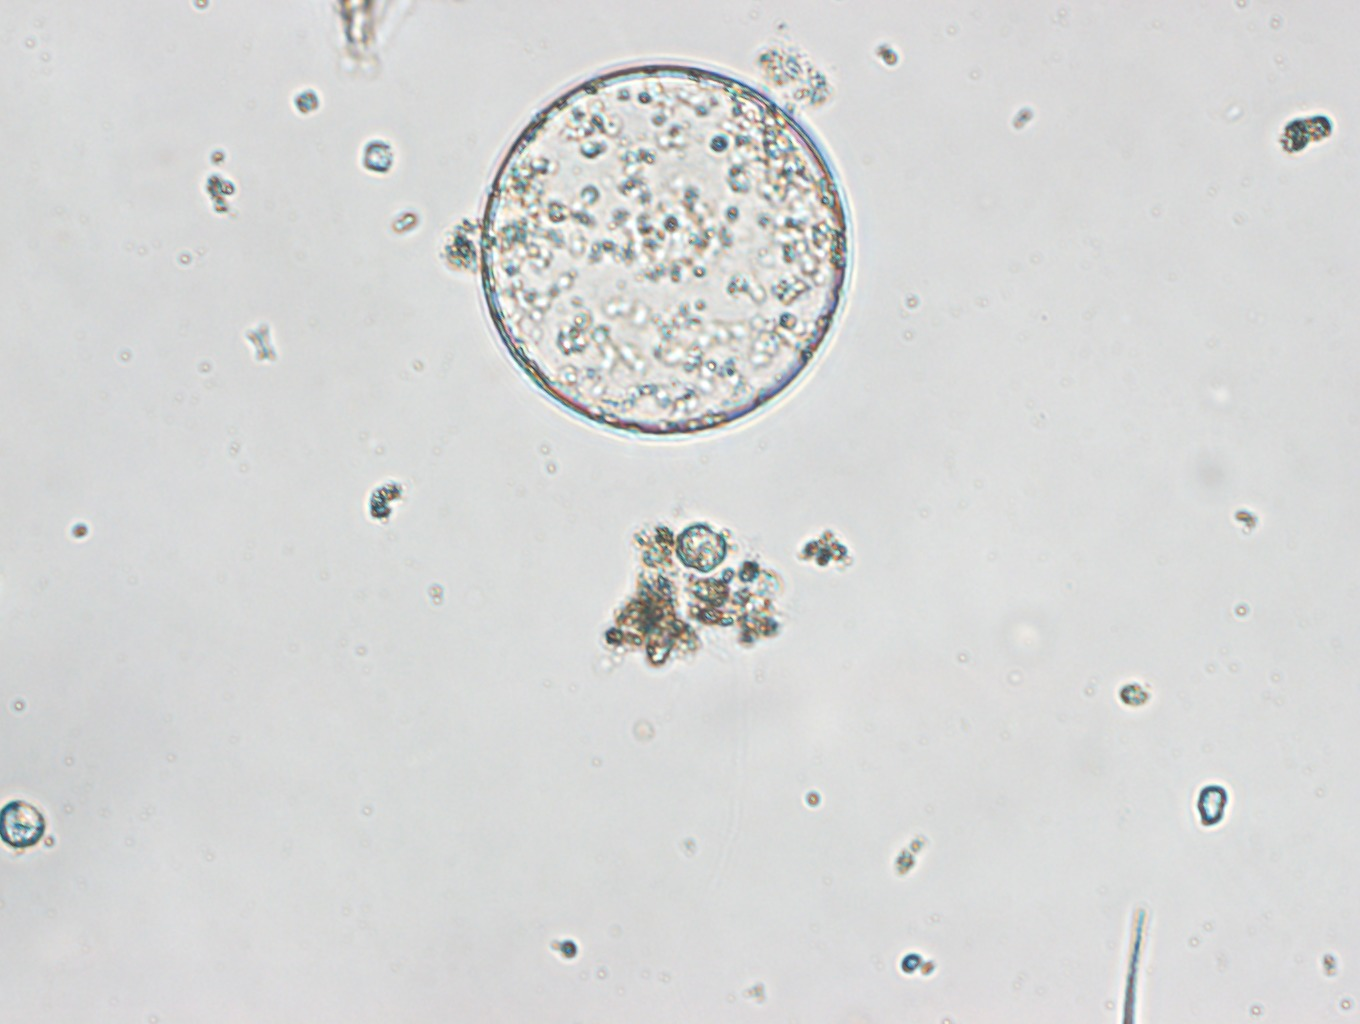coscinodiscus: (481, 61, 856, 435)
